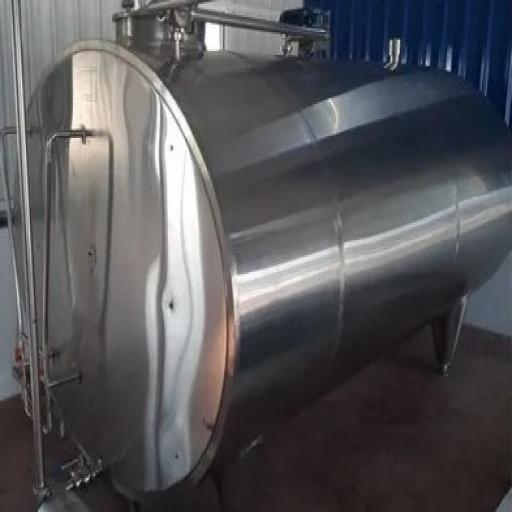silo: (6, 3, 511, 502)
